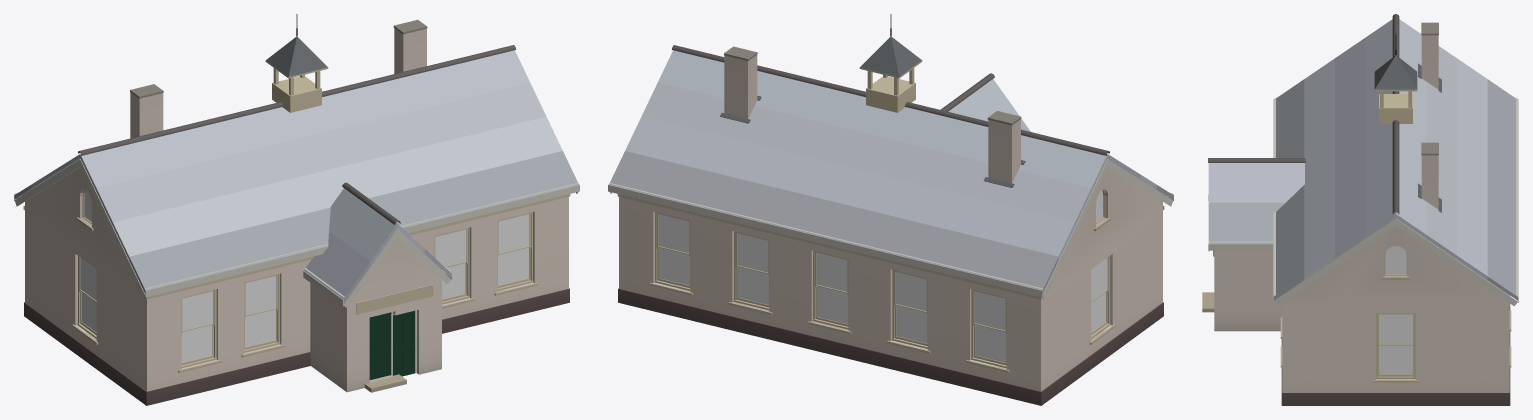
File: town_school_a_lod2.glb
3 views of the same model, side by side, from view 1: azimuth 30°, elevation 25°; view 2: azimuth 150°, elevation 25°; view 3: azimuth 270°, elevation 25° (orthographic). The views are drawn at different scales.
Parts seen in each view (by area): view 1: body; view 2: body; view 3: body.
Boxes of the visible parts, x1,y1,x2,y2 form: body: (14,14,579,405); body: (608,14,1173,405); body: (1202,14,1518,405).
Size of what is drawn, in the model's own units: 16.48 by 10.7 by 11.15.
